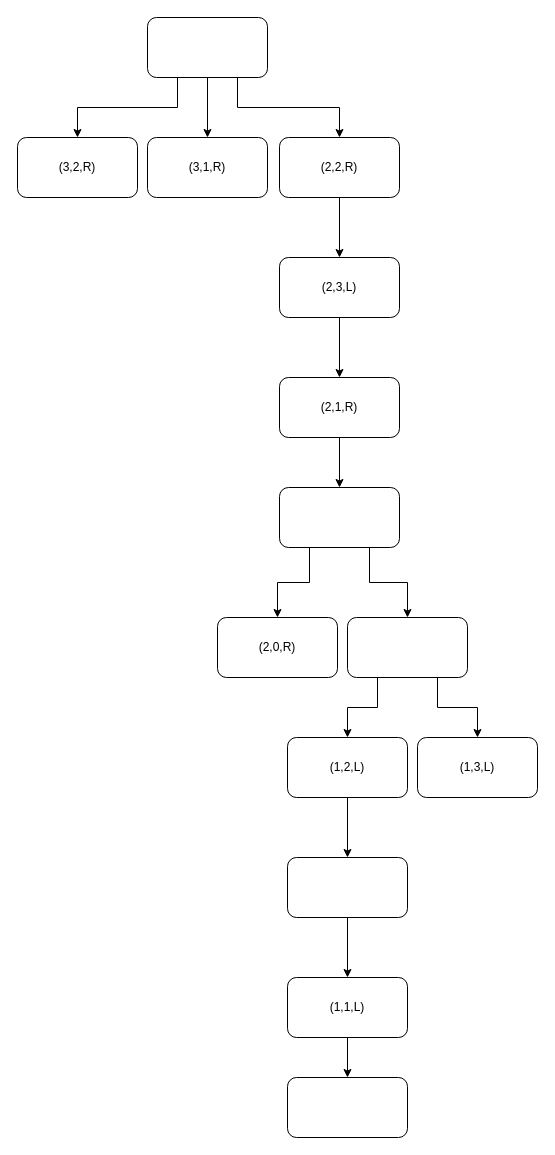
Some shapes in this 555 by 1155 pixel diagram are drawn without their labels. Here are the shapes that lost their labels. From the top down, the box of each, then its label:
(146, 16, 268, 78): (3,3,L)
(278, 486, 400, 548): (2,2,L)
(346, 616, 468, 678): (1,1,R)
(286, 856, 408, 918): (1,0,R)
(286, 1076, 408, 1138): (0,0,R)
